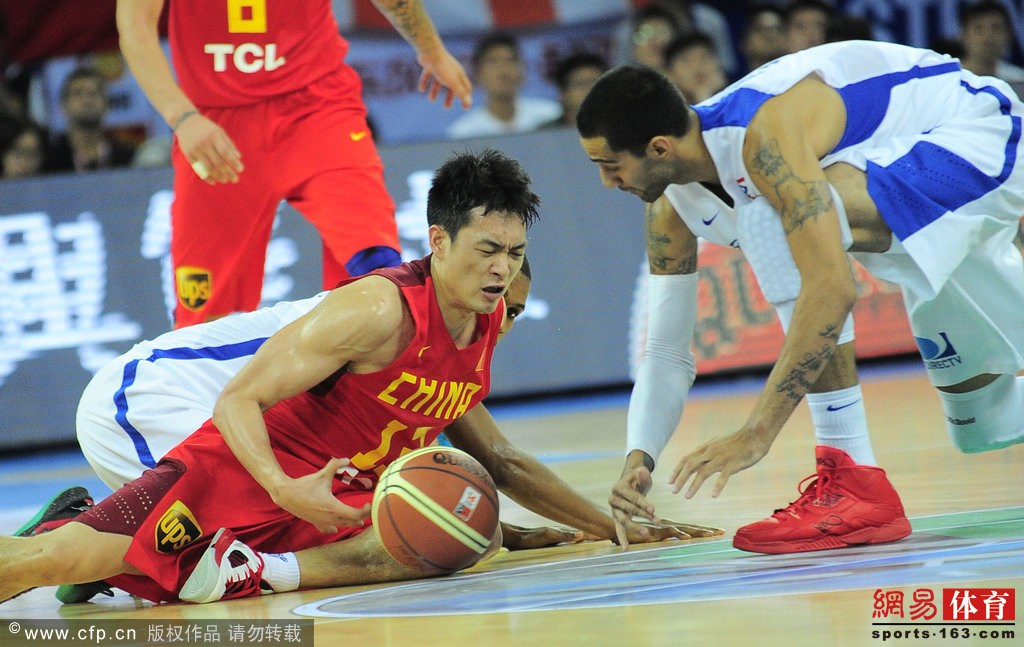fall: (7, 133, 671, 597)
